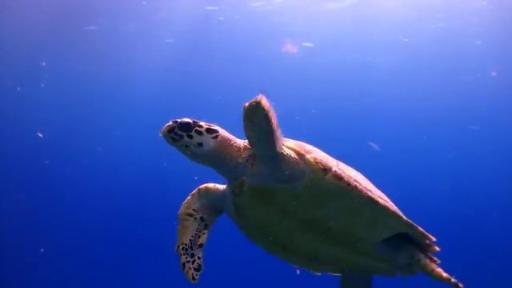Fish: (161, 96, 463, 287)
